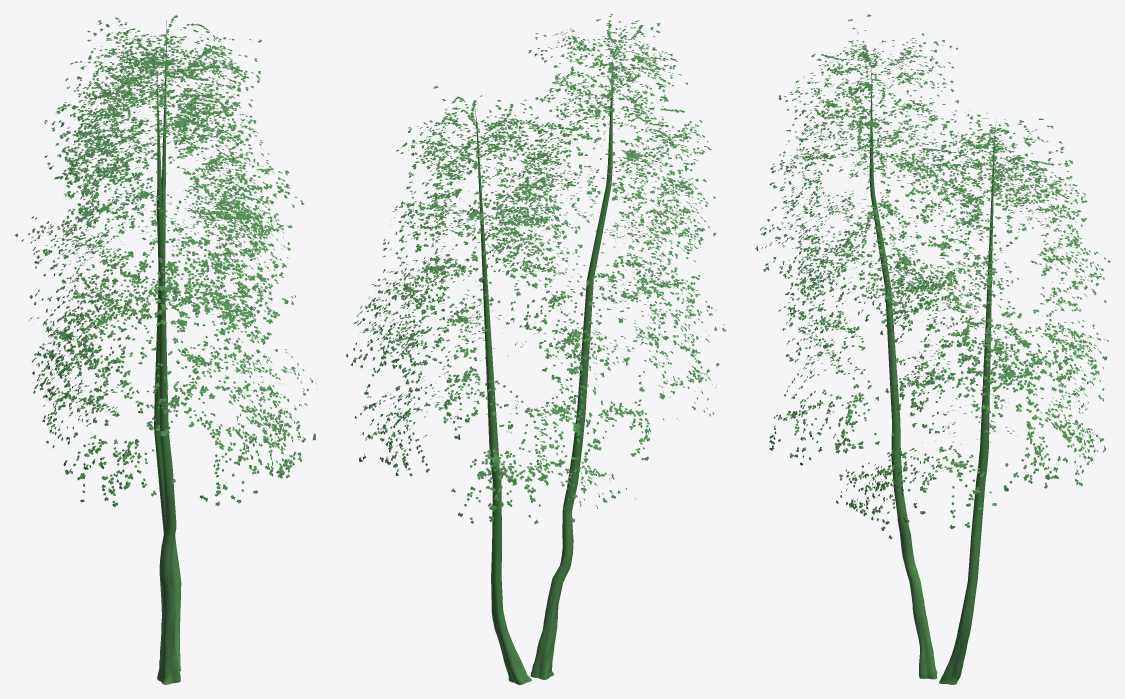
File: tree.glb
3 renders of one model, left to right at view 1: azimuth 30°, elevation 25°; view 2: azimuth 150°, elevation 25°; view 3: azimuth 270°, elevation 25°, orthographic. The views are drawn at different scales.
Visible parts, largest first — view 1: Birch_Leaf_Summer, Birch_Bark_Large; view 2: Birch_Leaf_Summer, Birch_Bark_Large; view 3: Birch_Leaf_Summer, Birch_Bark_Large.
Boxes of the visible parts, left/top/right/bottom form: Birch_Leaf_Summer: left=15, top=15, right=317, bottom=506; Birch_Bark_Large: left=154, top=20, right=181, bottom=684; Birch_Leaf_Summer: left=346, top=14, right=726, bottom=523; Birch_Bark_Large: left=474, top=46, right=613, bottom=684; Birch_Leaf_Summer: left=755, top=14, right=1110, bottom=539; Birch_Bark_Large: left=869, top=67, right=996, bottom=684.
Size of the model in its own units: 5.7 by 12.18 by 6.3.
